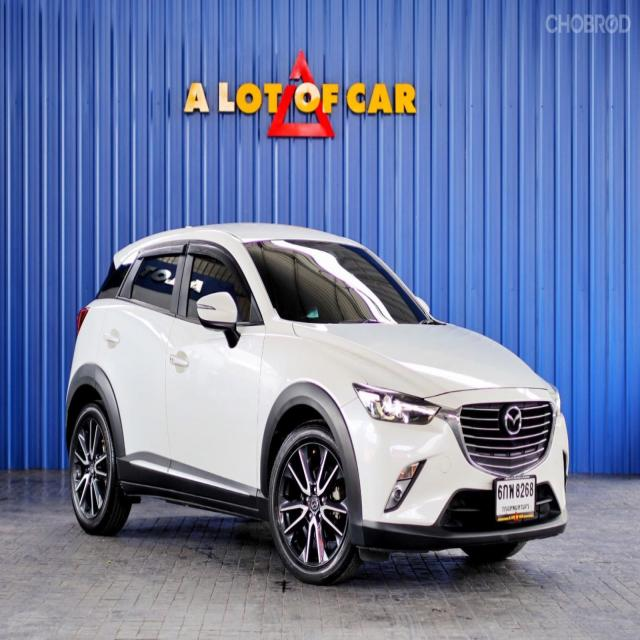license_plate: (490, 471, 540, 527)
